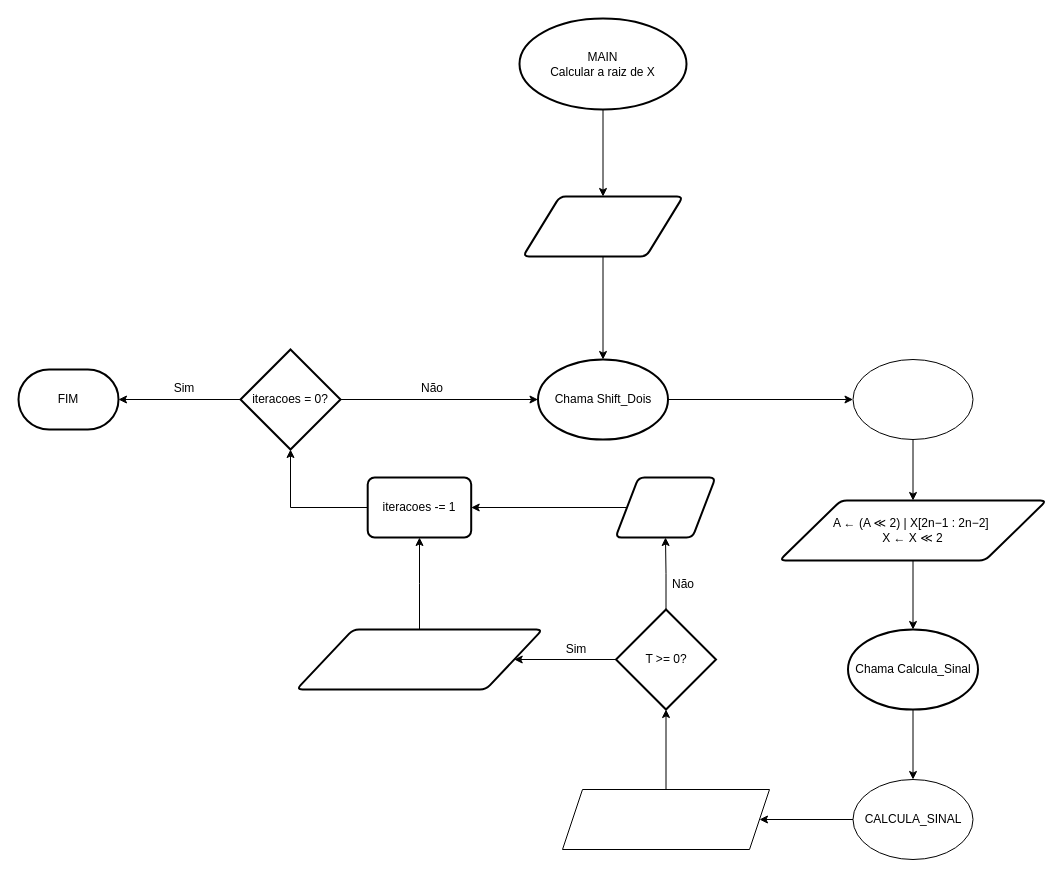
This 1064x877 diagram has some shape labels left out. The shapes that lost their labels are listed below. From the top down, each one's box as (x1, y1, x2, y2) in pixels, then its label:
(522, 195, 684, 257): X = [valor] iteracoes = 14
(852, 358, 973, 440): SHIFT_DOIS
(614, 476, 716, 538): Q ← Q ≪ 1
(295, 628, 543, 690): Q ← Q ≪ 1 A ← T Q[0] ← 1
(562, 788, 770, 850): {Q, (01) 2 } = (Q ≪ 2) | (01) 2 T ← A − {Q, (01) 2 }
